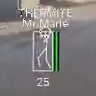hacks_1: (18, 8, 74, 87)
